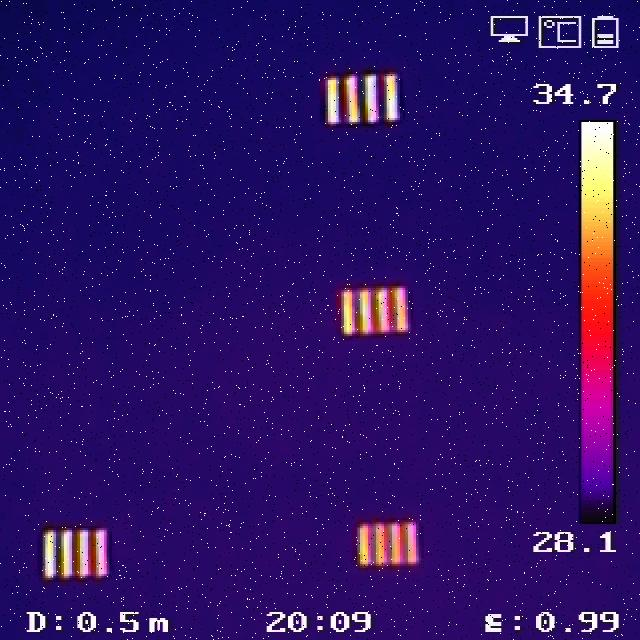Distinguishable 4-bar target: (324, 74, 401, 127), (339, 286, 408, 335), (46, 531, 110, 578), (360, 525, 420, 567)
